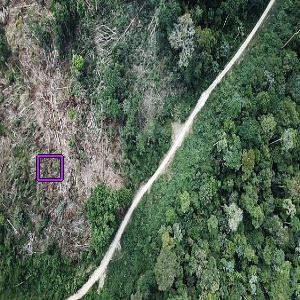square: (34, 153, 66, 183)
